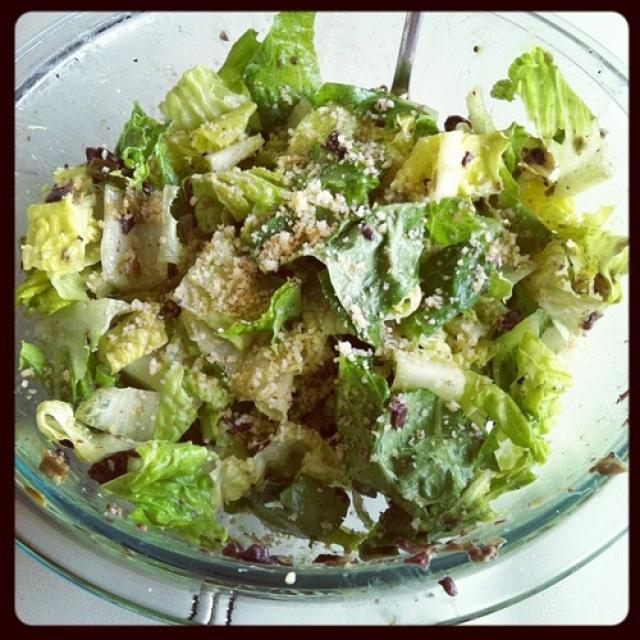蔬菜料理: (40, 34, 599, 596)
